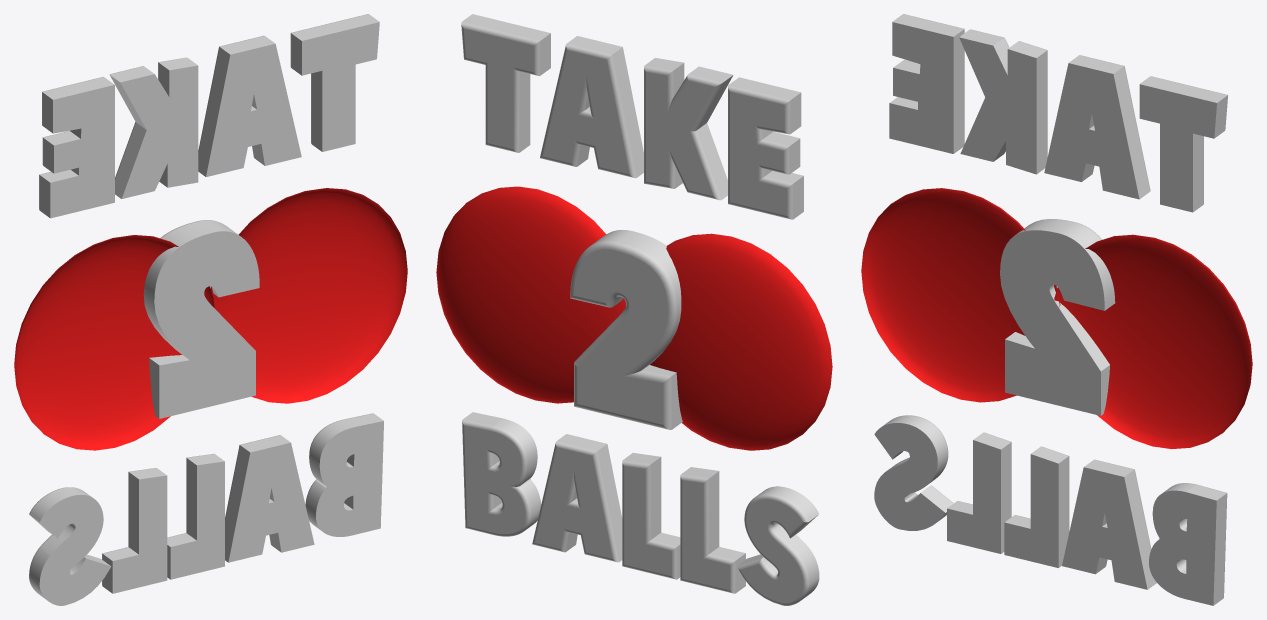
Rendered from Take2Balls.fbx.
The picture shows the model from 3 angles, left to right: view 1: azimuth 30°, elevation 25°; view 2: azimuth 150°, elevation 25°; view 3: azimuth 330°, elevation 25°; orthographic projection.
Parts seen in each view (by area): view 1: TextPlus013; view 2: TextPlus013; view 3: TextPlus013.
Boxes of the visible parts, x1=… form: TextPlus013: x1=14, y1=14, x2=407, y2=605; TextPlus013: x1=436, y1=14, x2=832, y2=605; TextPlus013: x1=861, y1=14, x2=1252, y2=605.
Size of the model in its own units: 49.84 by 5.24 by 61.56.
